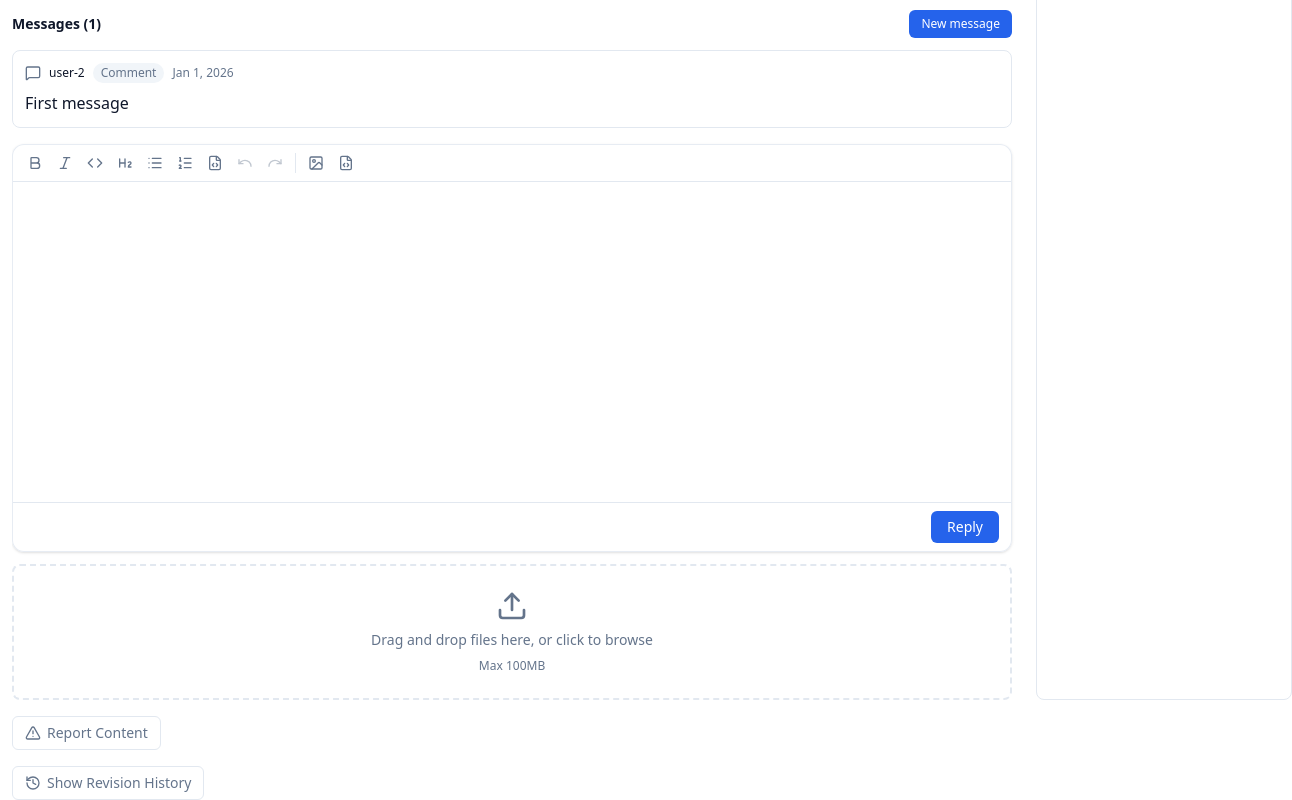
Test: ThreadDetailView › closes flag form when cancel is clicked
(page scrolled)
Click the button with test id "flag-toggle" at (86, 733), box [12,716,161,750]
(page scrolled)
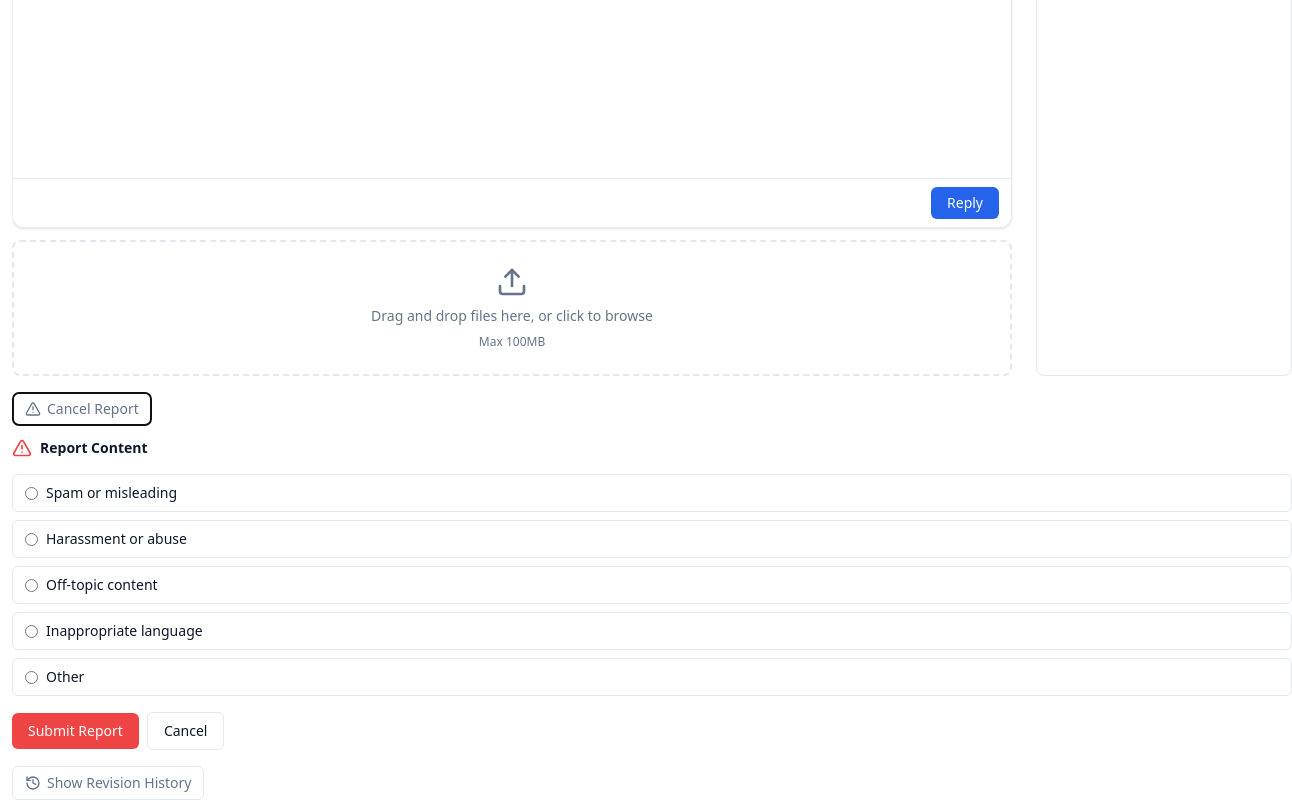
Expected: the form with test id "flag-form" is shown, [12,438,1291,750]
Click the button with test id "flag-cancel-btn" at (186, 731), box [147,712,224,750]
(page scrolled)
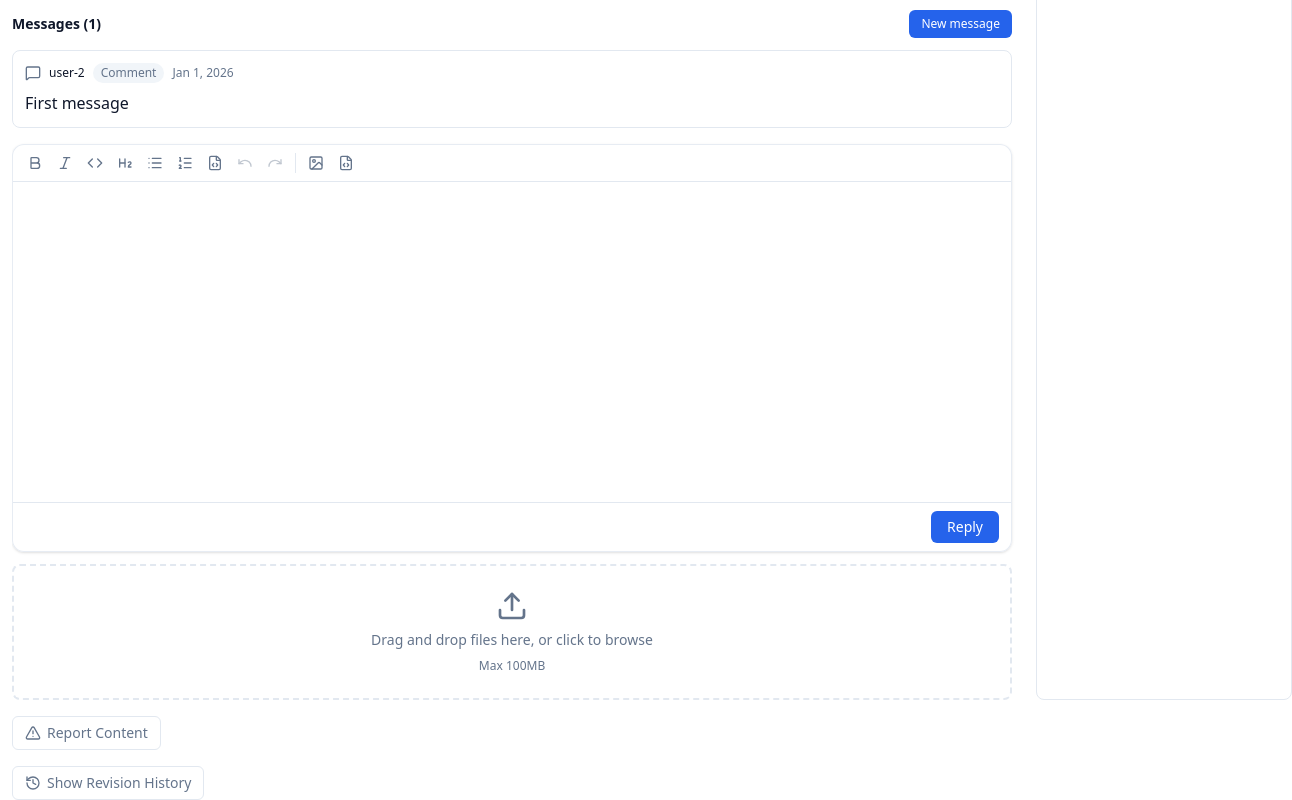
Expected: the form with test id "flag-form" is gone
